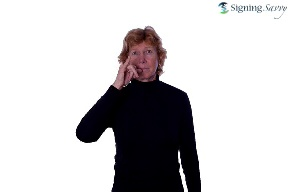drink: (104, 53, 150, 96)
